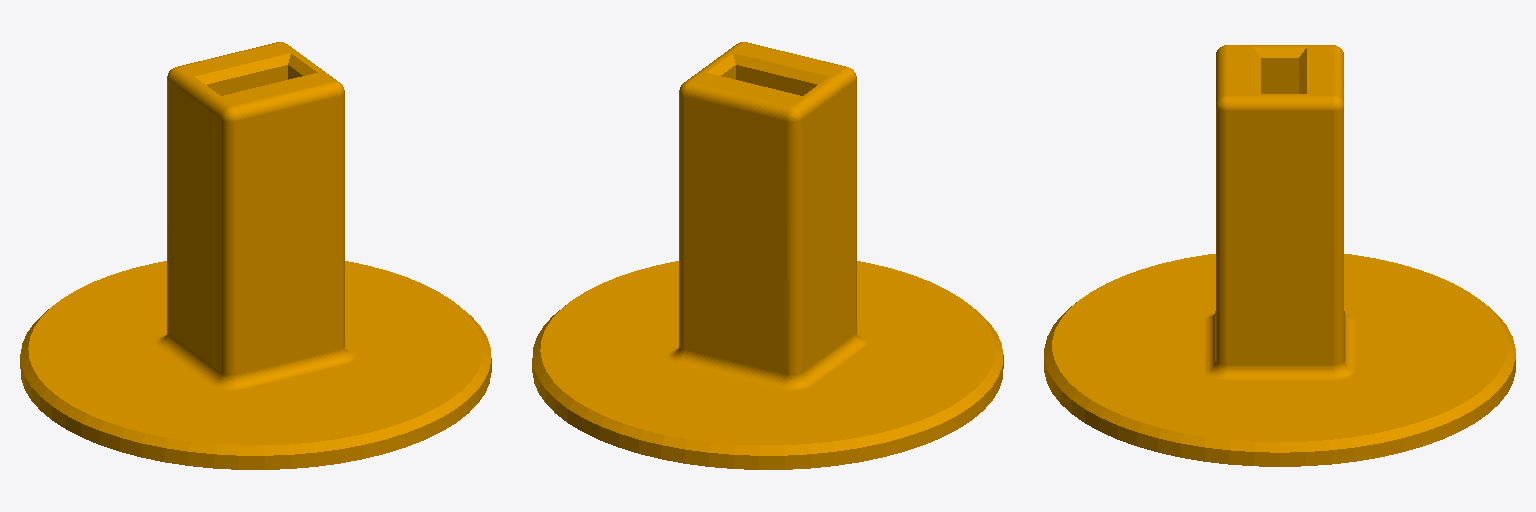
The robot description file, URDF, robot "kit":
<?xml version="1.0"?>
<robot name="kit">
    <link name="kit">
        <visual>
            <geometry>
                <mesh filename="./obj-and-urdf/UsbStand.stl" scale="0.00155 0.00155 0.00155"/>
            </geometry>
        </visual>
        <collision>
            <geometry>
                <mesh filename="./obj-and-urdf/UsbStand.stl" scale="0.00155 0.00155 0.00155"/>
            </geometry>
            <sdf resolution="16"/>
        </collision>
    </link>
</robot>

--- What the picture shows (computed from the rendered views, not written in the file) ---
3 views of the same robot in one strip: view 1: azimuth 30°, elevation 25°; view 2: azimuth 150°, elevation 25°; view 3: azimuth 270°, elevation 25° (orthographic).
Robot: kit — 1 links, 0 joints (none); root link kit; default pose: every joint at zero.
Links seen in each view (by area): view 1: kit; view 2: kit; view 3: kit.
Boxes of the visible links, x1=… form: kit: x1=20, y1=42, x2=491, y2=469; kit: x1=532, y1=42, x2=1003, y2=469; kit: x1=1044, y1=45, x2=1515, y2=466.
Bounding box of the posed robot: 0.093 × 0.0929 × 0.0645 m (x, y, z).
1 mesh visuals loaded from 1 distinct referenced files (1 binary STL).